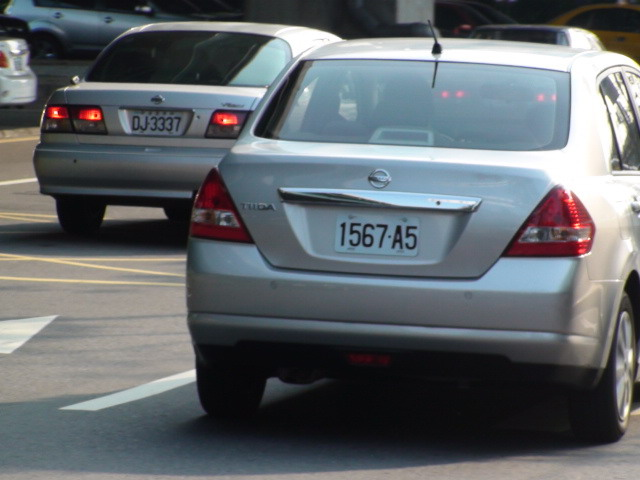plate: (333, 211, 421, 259), (127, 106, 184, 141)
